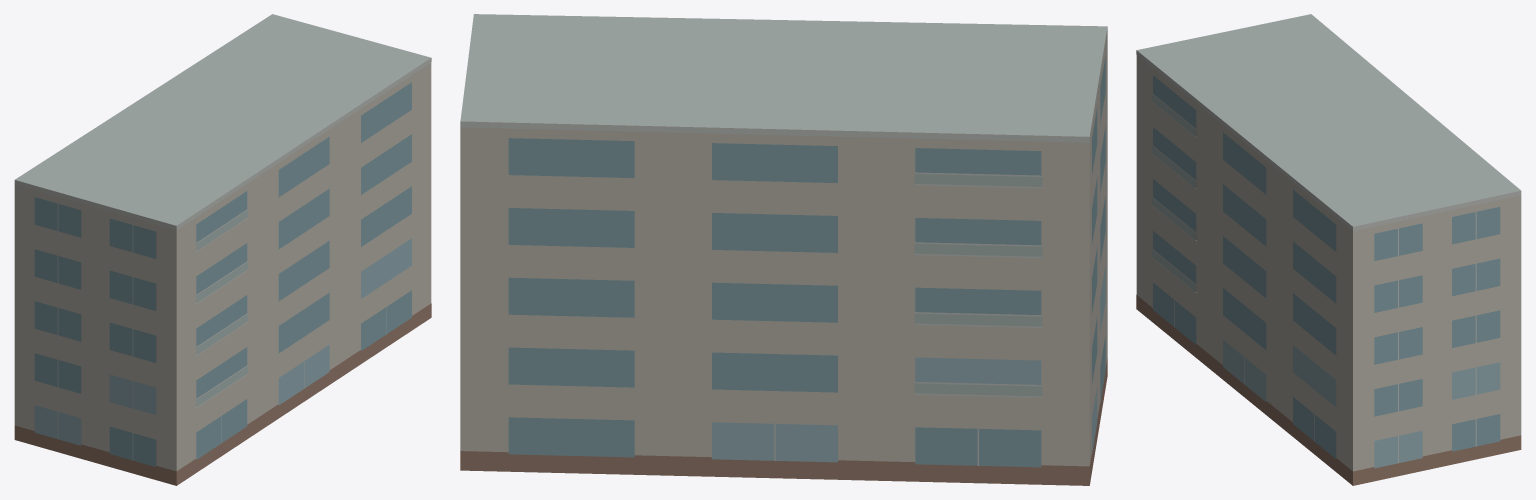
File: survey-upis-32970495.glb
3 renders of one model, left to right at view 1: azimuth 30°, elevation 25°; view 2: azimuth 150°, elevation 25°; view 3: azimuth 270°, elevation 25°, orthographic. The views are drawn at different scales.
Visible parts, largest first — view 1: survey-upis-32970495.tmp; view 2: survey-upis-32970495.tmp; view 3: survey-upis-32970495.tmp.
Boxes of the visible parts, x1=… form: survey-upis-32970495.tmp: x1=14, y1=14, x2=431, y2=485; survey-upis-32970495.tmp: x1=460, y1=14, x2=1107, y2=485; survey-upis-32970495.tmp: x1=1136, y1=14, x2=1521, y2=485.
Size of the model in its own units: 25.03 by 14.2 by 19.13.
